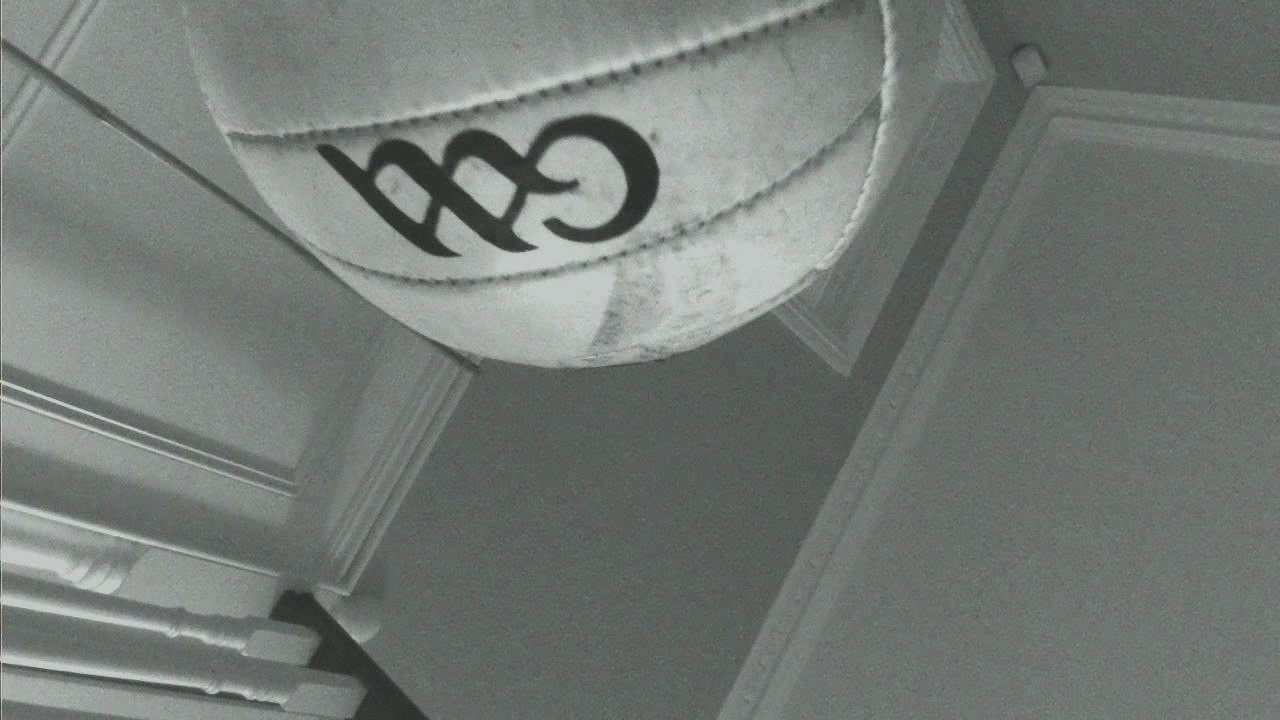Football-Spotter: (182, 0, 940, 367)
